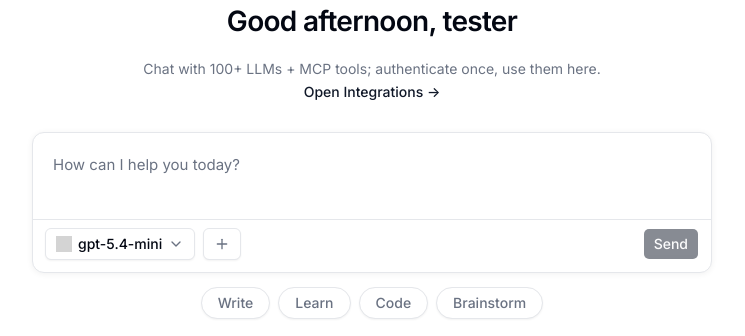
Test: /ui/chat request metrics › shows no metrics bar for a turn the provider reported no usage for
The image size is (745, 336).
Expected: the button "gpt-5.4-mini" is shown, [45,228,195,260]
Type "How much did this cost?" into the text box with placeholder "How can I help you today?" at (372, 172), box [33,132,711,212]
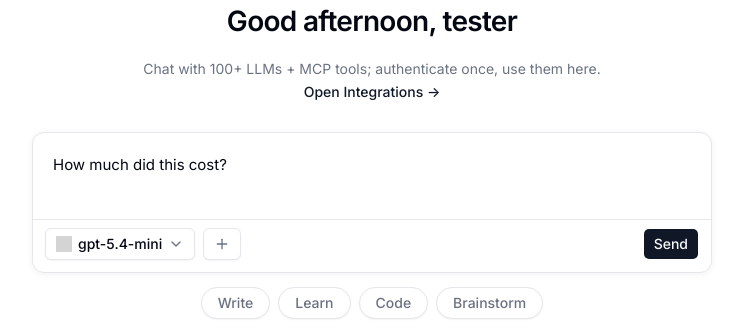
Click the button "Send" at (671, 244), box [643,228,699,260]
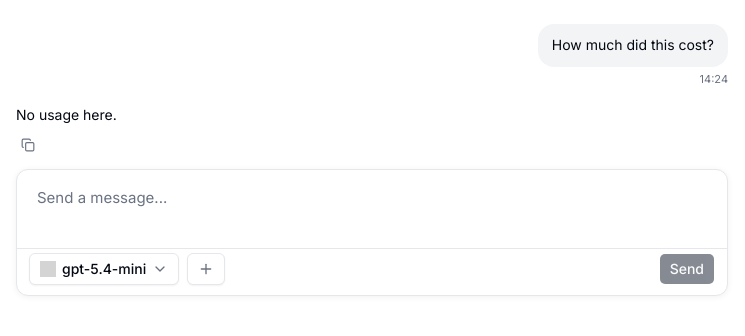
Now the text "No usage here." is shown, box [16,103,117,127]
